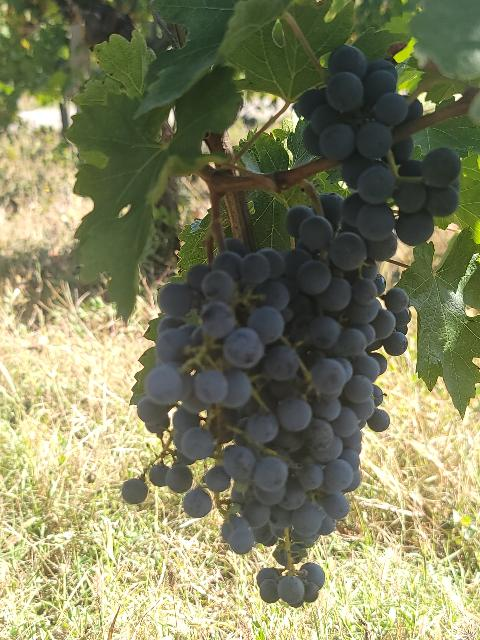grapes: (138, 206, 348, 606), (289, 194, 410, 510), (294, 45, 461, 250)
